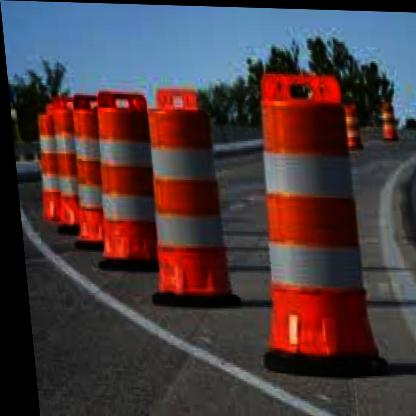obstacle: (241, 78, 371, 363), (136, 94, 223, 305)
